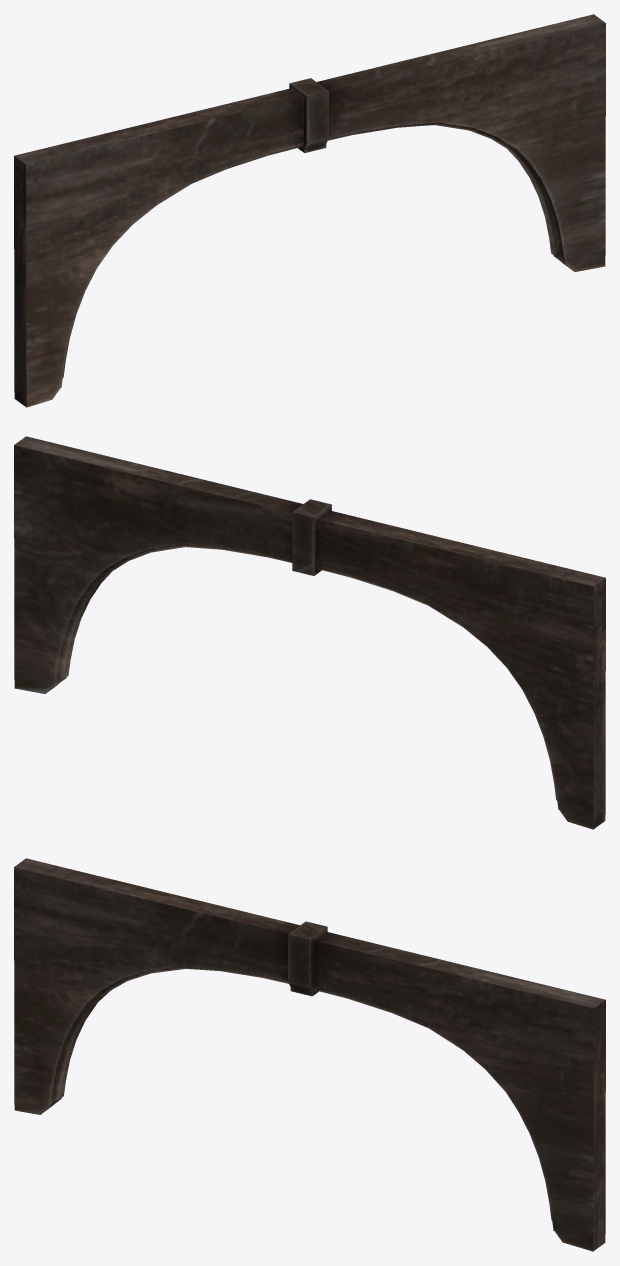
Rendered from Arch.fbx.
3 renders of one model, top to bottom at view 1: azimuth 30°, elevation 25°; view 2: azimuth 150°, elevation 25°; view 3: azimuth 330°, elevation 25°, orthographic.
Parts seen in each view (by area): view 1: SM_Arch_Long_LOD0; view 2: SM_Arch_Long_LOD0; view 3: SM_Arch_Long_LOD0.
Part boxes in pixels (x1,y1,x2,y2): SM_Arch_Long_LOD0: (14,14,605,407); SM_Arch_Long_LOD0: (14,436,605,829); SM_Arch_Long_LOD0: (14,858,605,1251).
Size of the model in its own units: 300 by 122 by 15.98.
